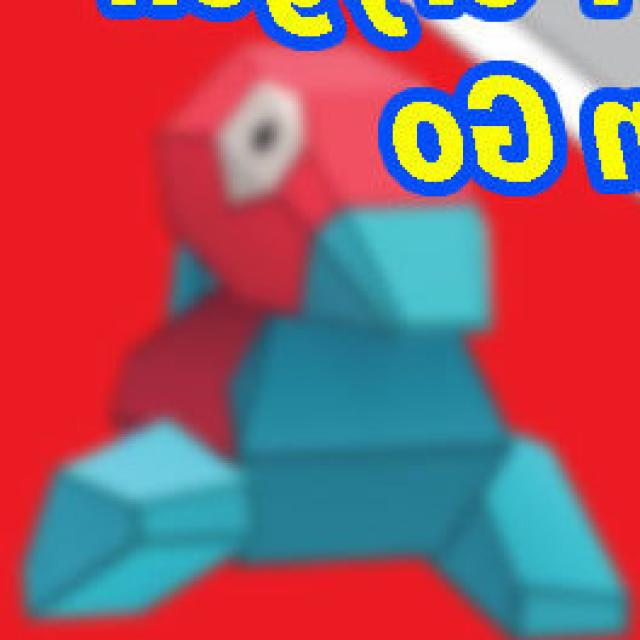Porygon: (97, 52, 470, 611)
